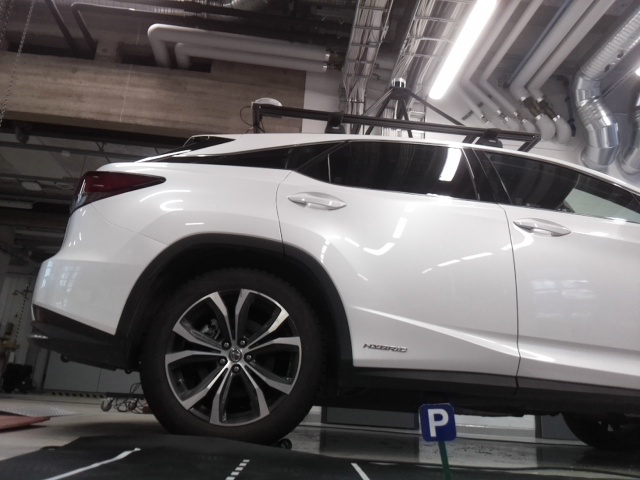Parking: (417, 405, 456, 441)
